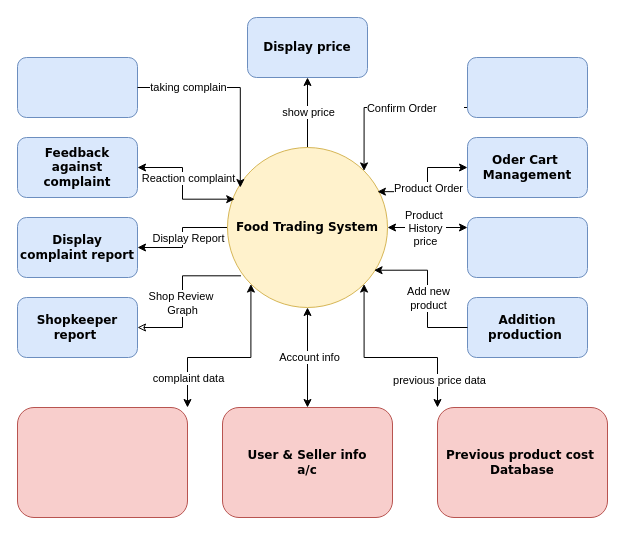
Some shapes in this 625 by 535 pixel diagram are drawn without their labels. The shapes that lost their labels are listed below. From the top down, each one's box as (x1, y1, x2, y2) in pixels, then its label:
(16, 56, 138, 118): Complaint box system
(466, 56, 588, 118): Product Payment
(466, 216, 588, 278): Price Cost analysis system
(16, 406, 188, 518): Complaint Details
